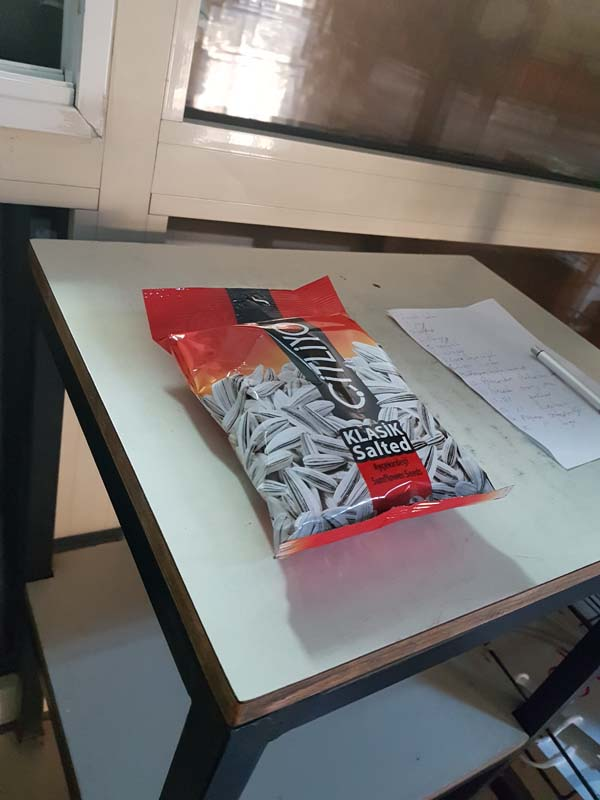citliyorklasik: (134, 263, 522, 554)
